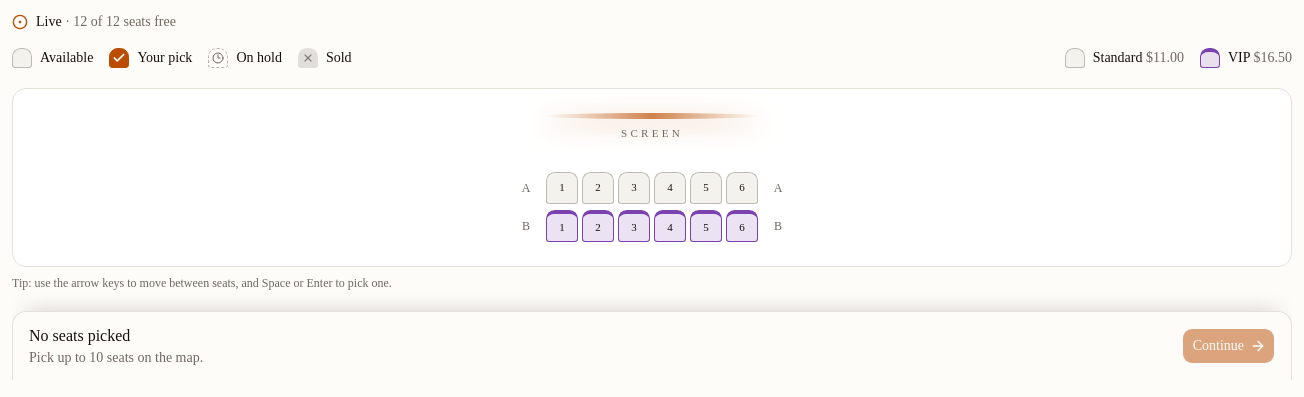
SeatPicker: holding seats › marks seats that someone else took, drops them, and refreshes the map
Click the 1st button "4".
click(670, 188)  # box [654,172,686,204]
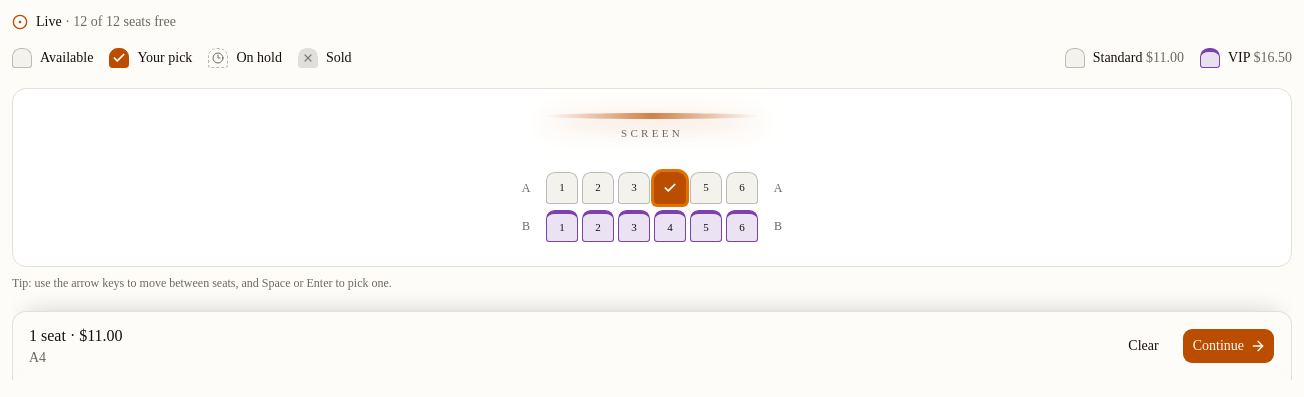
Click the 1st button "5".
click(706, 188)  # box [690,172,722,204]
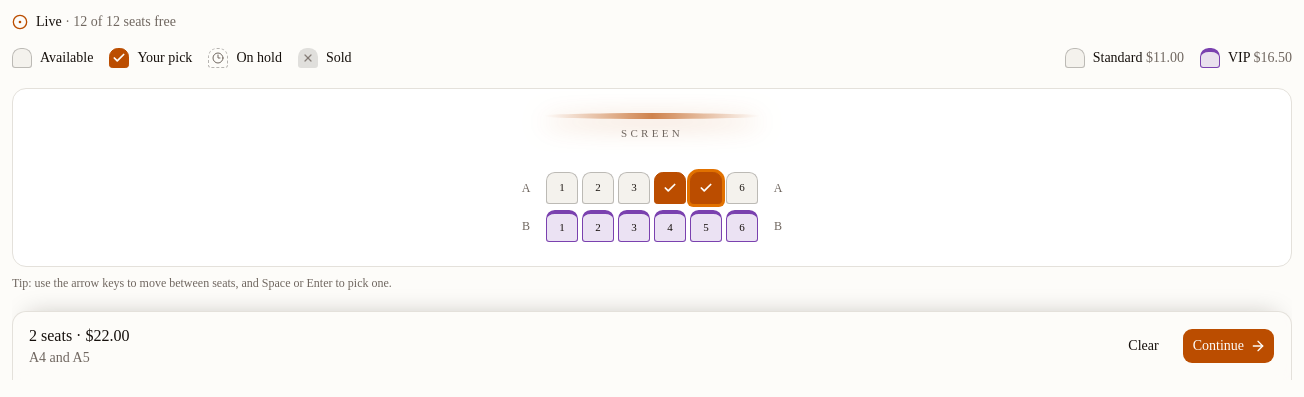
Click the button "Continue".
click(1228, 346)  # box [1182,328,1275,364]
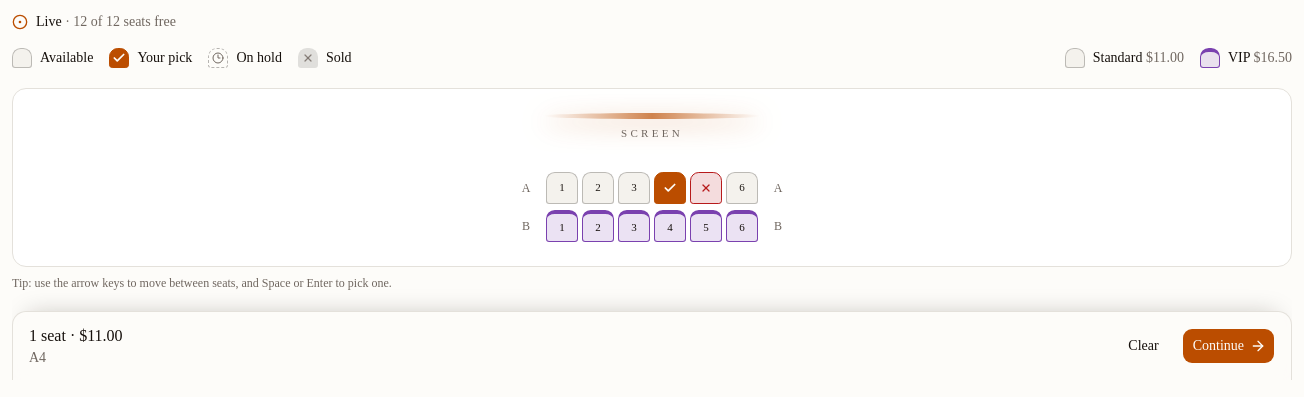
Now the text "1 seat · $11.00" is shown, box [29,326,123,344]
